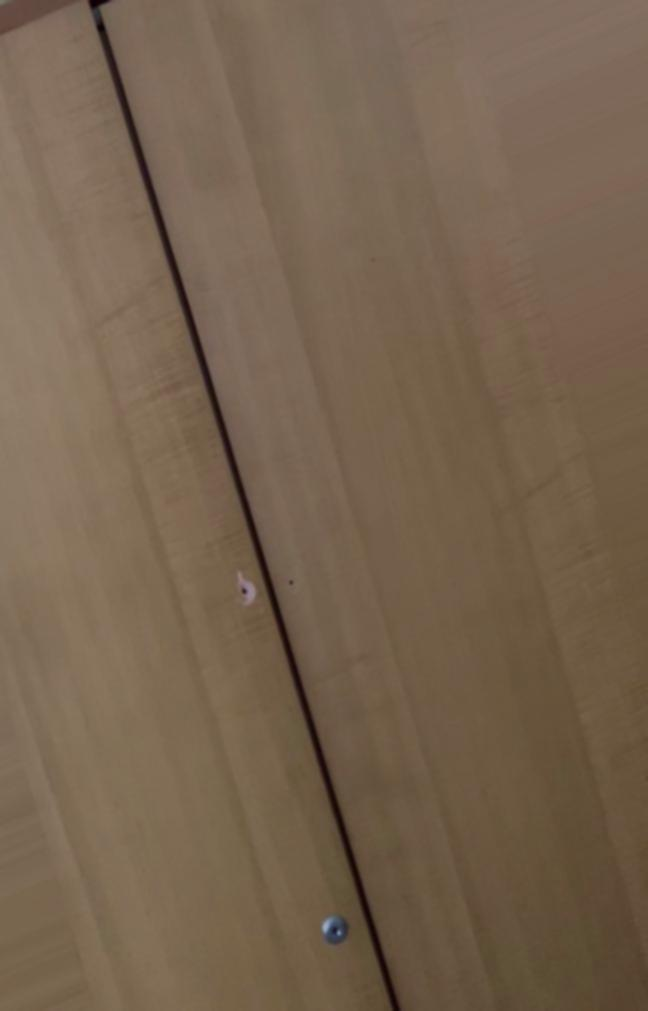Armario: (19, 18, 638, 1009)
